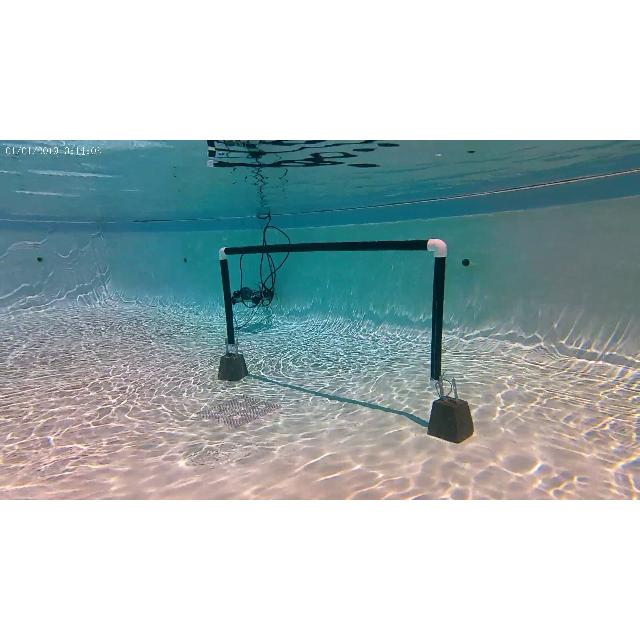prequal gate: (218, 239, 448, 387)
prequal gate leg l: (218, 246, 240, 350)
prequal gate leg r: (426, 238, 446, 388)
